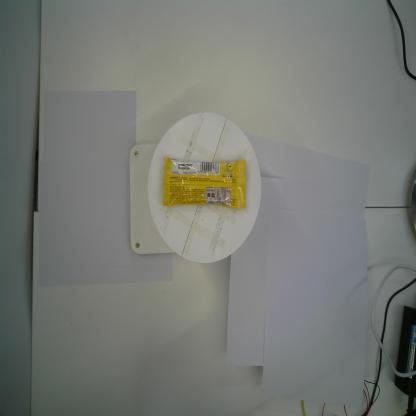Chocolate: (160, 156, 246, 210)
